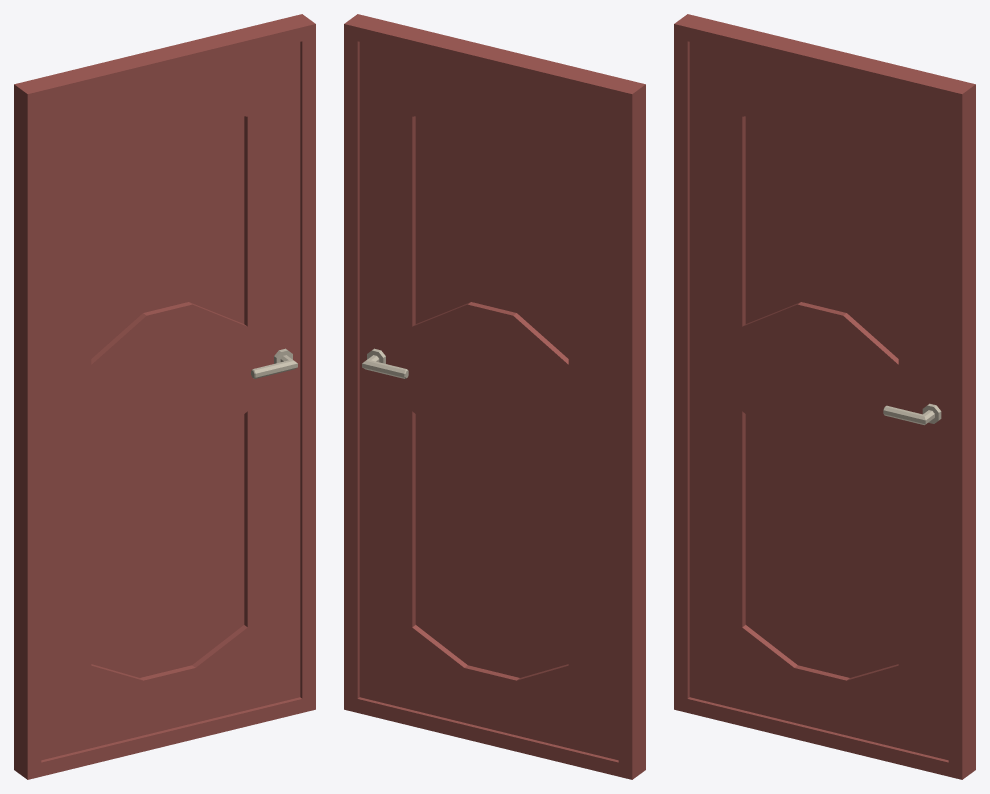
File: Mesh_Door_D10.fbx
The picture shows the model from 3 angles, left to right: view 1: azimuth 30°, elevation 25°; view 2: azimuth 150°, elevation 25°; view 3: azimuth 330°, elevation 25°; orthographic projection.
Visible parts, largest first — view 1: Mesh_Door_D10; view 2: Mesh_Door_D10; view 3: Mesh_Door_D10.
Boxes of the visible parts, bbox=[...] form: Mesh_Door_D10: bbox=[14, 14, 315, 779]; Mesh_Door_D10: bbox=[344, 14, 645, 779]; Mesh_Door_D10: bbox=[674, 14, 975, 779].
Bounding box in the file's own units: 0.9 × 2.05 × 0.1742.
